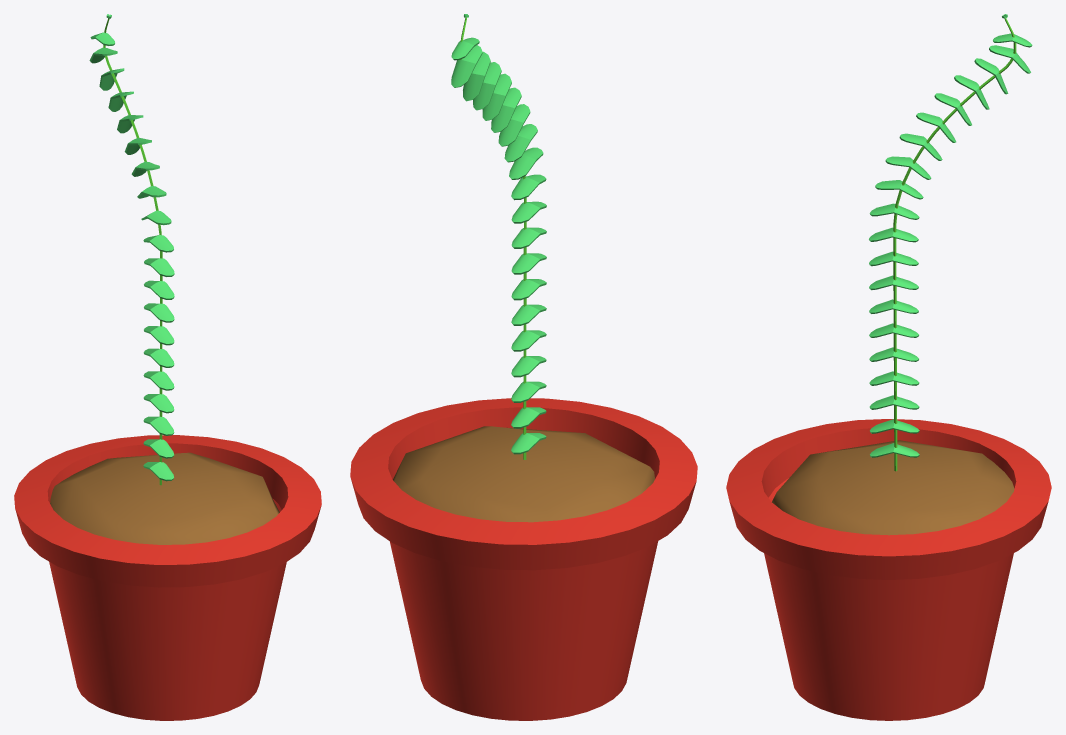
The model's file is Maceta_01.fbx.
3 renders of one model, left to right at view 1: azimuth 30°, elevation 25°; view 2: azimuth 150°, elevation 25°; view 3: azimuth 270°, elevation 25°, orthographic. The views are drawn at different scales.
Parts seen in each view (by area): view 1: Cylinder.002; view 2: Cylinder.002; view 3: Cylinder.002.
Boxes of the visible parts, x1,y1,x2,y2 form: Cylinder.002: (14,14,321,720); Cylinder.002: (350,14,697,720); Cylinder.002: (726,14,1051,720).
Bounding box in the file's own units: 250 × 562 × 250.
